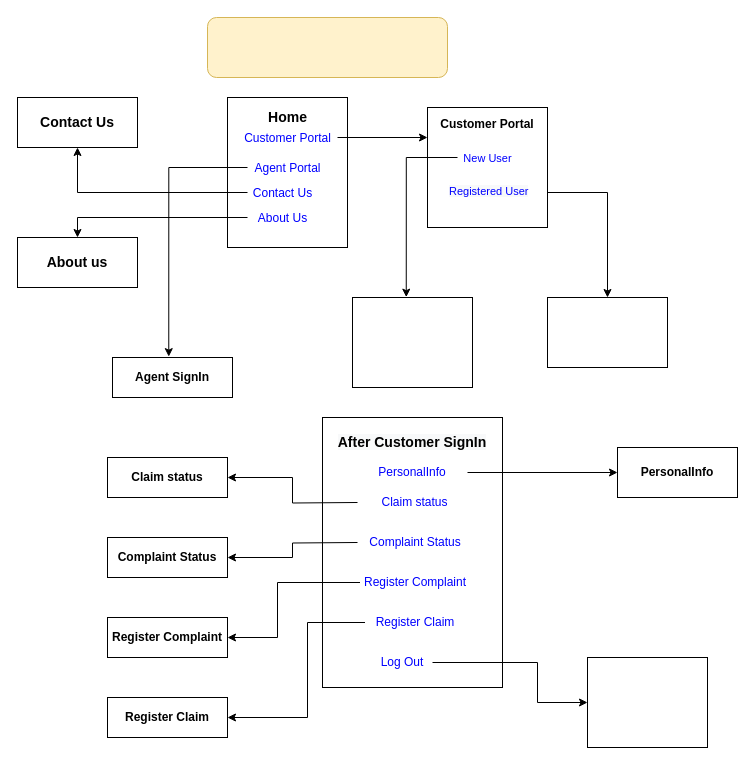
Some shapes in this 755 by 765 pixel diagram are drawn without their labels. The centre of each missing label's shape, as x and y in pixels:
"Customer SignIn SignIn" goes at point 607,332.
"Customer SignUp SignUp" goes at point 412,342.
"Flow Diagram" goes at point 327,47.
"LogOut SignIn" goes at point 647,702.
